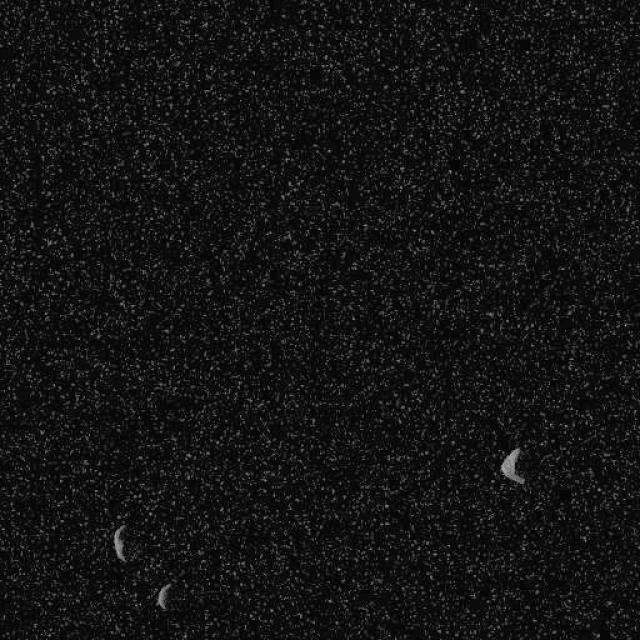D2: (499, 446, 526, 485), (111, 522, 129, 562), (154, 581, 172, 610)
